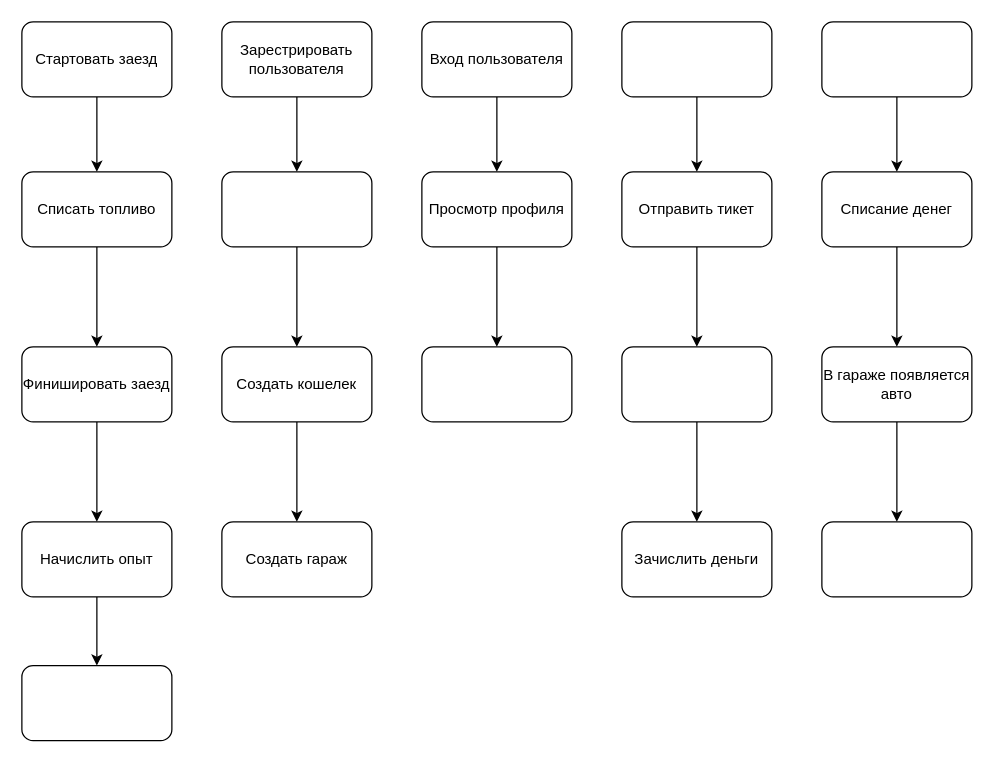
Image size: 994x763. Some labels were removed from this diagram. The box of each missing label's shape, as (x1, y1, x2, y2) in pixels:
Изменить текущий автомобиль: (821, 521, 972, 597)
Купить авто: (821, 21, 972, 97)
Начислить награду: (21, 664, 172, 741)
Поплнение кошелька: (621, 21, 772, 97)
Проверить тикет: (621, 346, 772, 422)
Просмотр кошелька: (421, 346, 572, 422)
Создать профиль: (221, 171, 372, 247)
